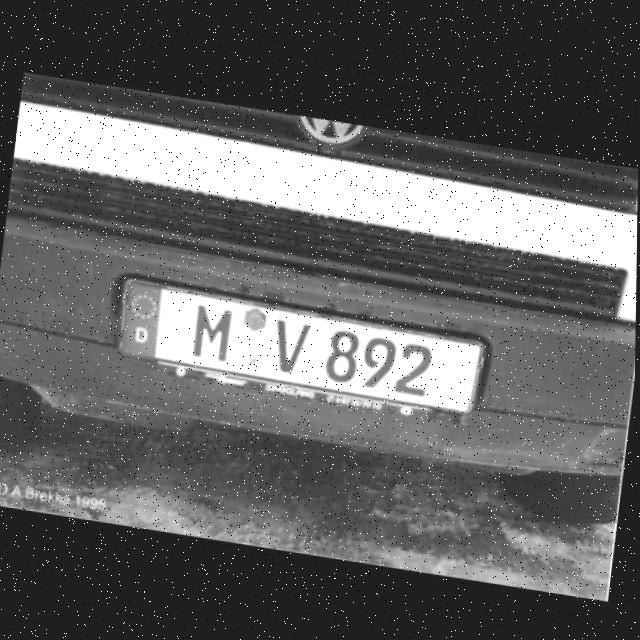license-plates: (119, 281, 485, 415)
